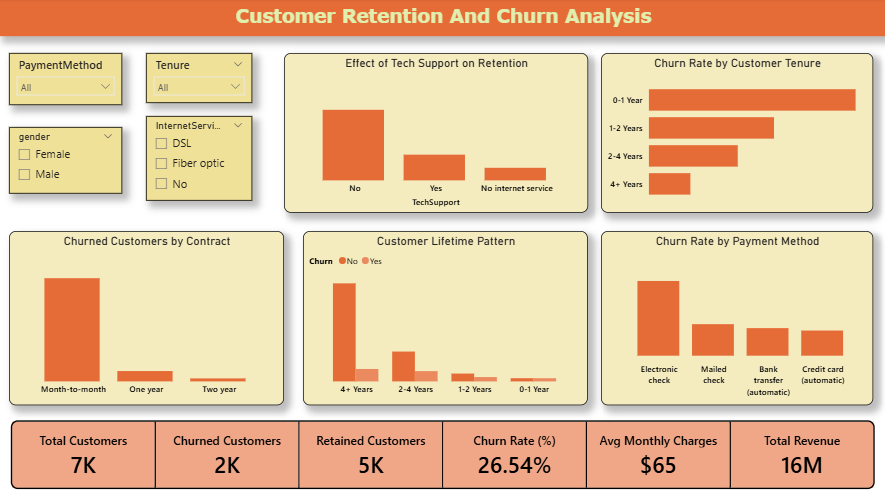

What the dashboard file says about the page in this screenshot:
{"tool":"powerbi","page":{"name":"Page 1","canvas":[1280,720],"ordinal":0},"visuals":[{"type":"textbox","box":[0,0,1280.2,54.7],"z":0},{"type":"cardVisual","fields":{"Data":["Telco-Customer.TotalCustomers","Telco-Customer.ChurnedCustomers","Telco-Customer.RetainedCustomers","Telco-Customer.ChurnRate (%)","Telco-Customer.AvgMonthlyCharges","Telco-Customer.TotalRevenue"]},"box":[0,596.2,1280.2,123.8],"z":1000},{"type":"clusteredColumnChart","title":"Churned Customers by Contract","fields":{"Category":["Telco-Customer.Contract"],"Y":["Telco-Customer.ChurnedCustomers"]},"box":[14.4,335.5,396,250.6],"z":2000},{"type":"clusteredBarChart","title":"Churn Rate by Customer Tenure","fields":{"Category":["Telco-Customer.TenureGroup"],"Y":["Telco-Customer.ChurnRate (%)"]},"box":[866.9,79.2,391.7,230.4],"z":3000},{"type":"clusteredColumnChart","title":"Churn Rate by Payment Method","fields":{"Category":["Telco-Customer.PaymentMethod"],"Y":["Telco-Customer.ChurnRate (%)"]},"box":[866.9,335.5,391.7,250.6],"z":4000},{"type":"slicer","fields":{"Values":["Telco-Customer.TenureGroup"]},"box":[211.7,79.2,152.6,72],"z":5000},{"type":"slicer","fields":{"Values":["Telco-Customer.InternetService"]},"box":[211.7,169.9,152.6,122.4],"z":6000},{"type":"slicer","fields":{"Values":["Telco-Customer.PaymentMethod"]},"box":[14.4,79.2,162.7,74.9],"z":7000},{"type":"slicer","fields":{"Values":["Telco-Customer.gender"]},"box":[14.4,185.8,162.7,96.5],"z":8000},{"type":"clusteredColumnChart","title":"Customer Lifetime Pattern","fields":{"Category":["Telco-Customer.TenureGroup"],"Y":["Telco-Customer.TotalRevenue"],"Series":["Telco-Customer.Churn"]},"box":[437.8,335.5,410.4,250.6],"z":9000},{"type":"clusteredColumnChart","title":"Effect of Tech Support on Retention","fields":{"Category":["Telco-Customer.TechSupport"],"Y":["Telco-Customer.ChurnRate (%)"]},"box":[410.4,79.2,437.8,230.4],"z":10000}]}

Visuals, with their boxes in screenshot pixels (x1, y1, x2, y2), scaled from the page's 1280x720 canvas onto the 885x496 screenshot:
textbox: x1=0 y1=0 x2=884 y2=38
cardVisual - Telco-Customer.TotalCustomers x Telco-Customer.ChurnedCustomers: x1=0 y1=411 x2=884 y2=495
"Churned Customers by Contract" clusteredColumnChart: x1=10 y1=231 x2=284 y2=404
"Churn Rate by Customer Tenure" clusteredBarChart: x1=599 y1=55 x2=870 y2=213
"Churn Rate by Payment Method" clusteredColumnChart: x1=599 y1=231 x2=870 y2=404
slicer - Telco-Customer.TenureGroup: x1=146 y1=55 x2=252 y2=104
slicer - Telco-Customer.InternetService: x1=146 y1=117 x2=252 y2=201
slicer - Telco-Customer.PaymentMethod: x1=10 y1=55 x2=122 y2=106
slicer - Telco-Customer.gender: x1=10 y1=128 x2=122 y2=194
"Customer Lifetime Pattern" clusteredColumnChart: x1=303 y1=231 x2=586 y2=404
"Effect of Tech Support on Retention" clusteredColumnChart: x1=284 y1=55 x2=586 y2=213
